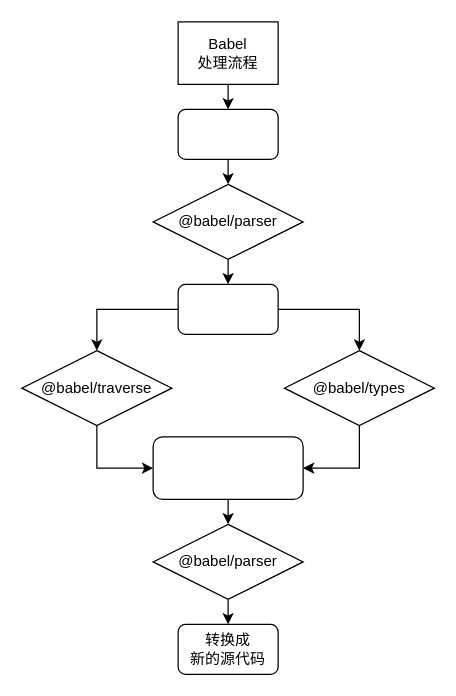
This 456x696 diagram has some shape labels left out. The centre of each missing label's shape, as x and y in pixels:
"AST 抽象语法树" belongs at point 227,308.
"源代码" belongs at point 227,133.
"生成指定类型的所有新AST节点集合" belongs at point 227,467.
